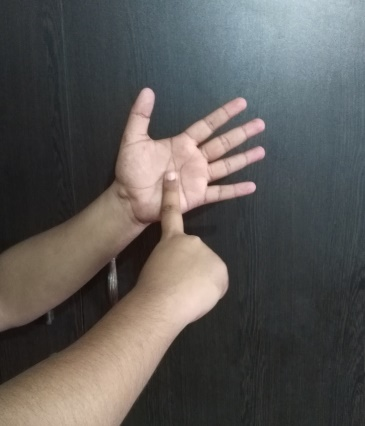oo: (114, 87, 267, 307)
